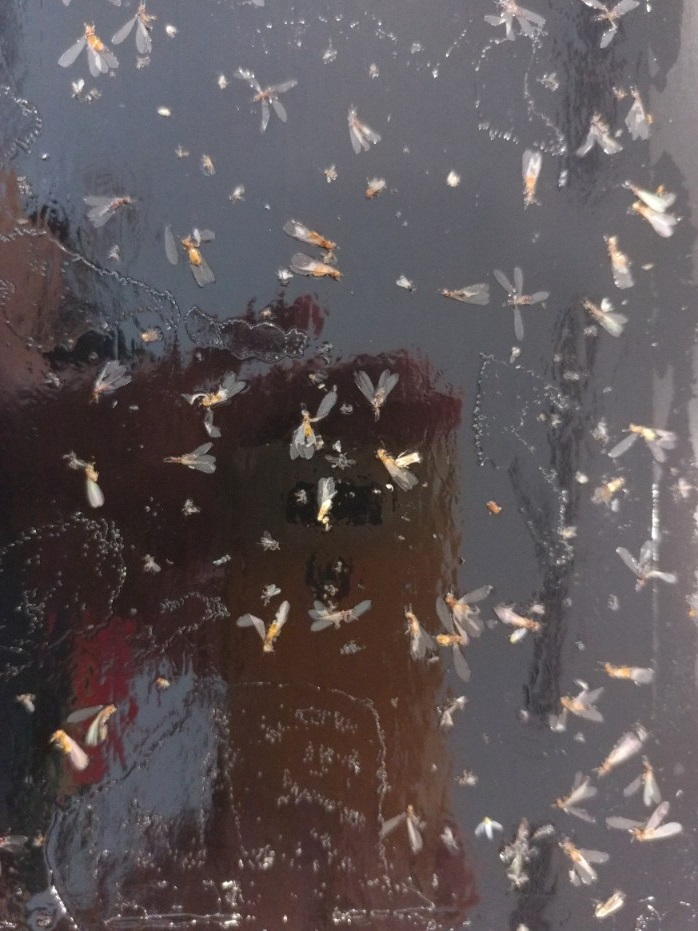termite: (588, 722, 660, 774), (618, 810, 686, 861), (69, 14, 117, 83), (249, 591, 294, 654), (274, 214, 343, 250), (274, 249, 343, 284), (512, 147, 546, 207)
